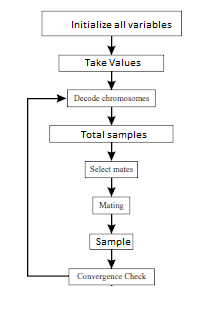arrow: (25, 94, 70, 280), (106, 71, 118, 91), (106, 35, 117, 54), (106, 107, 117, 126), (107, 214, 117, 233), (107, 178, 116, 198), (107, 142, 116, 160), (107, 250, 116, 268)
process: (39, 9, 184, 37), (47, 123, 177, 145), (56, 53, 166, 74), (67, 265, 156, 287), (65, 87, 158, 108), (83, 159, 139, 180), (87, 231, 135, 252), (90, 195, 132, 217)
text: (70, 19, 174, 30), (73, 92, 151, 103), (80, 128, 148, 140), (83, 57, 143, 69), (76, 270, 147, 280), (90, 164, 134, 174), (95, 236, 132, 246), (97, 200, 124, 210)
